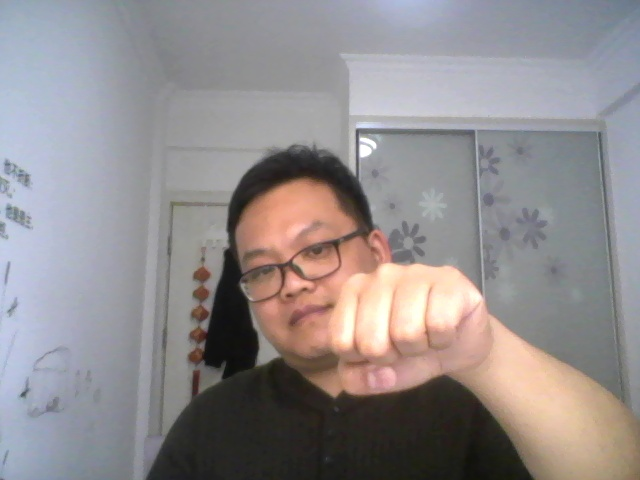Yes: (315, 259, 506, 406)
